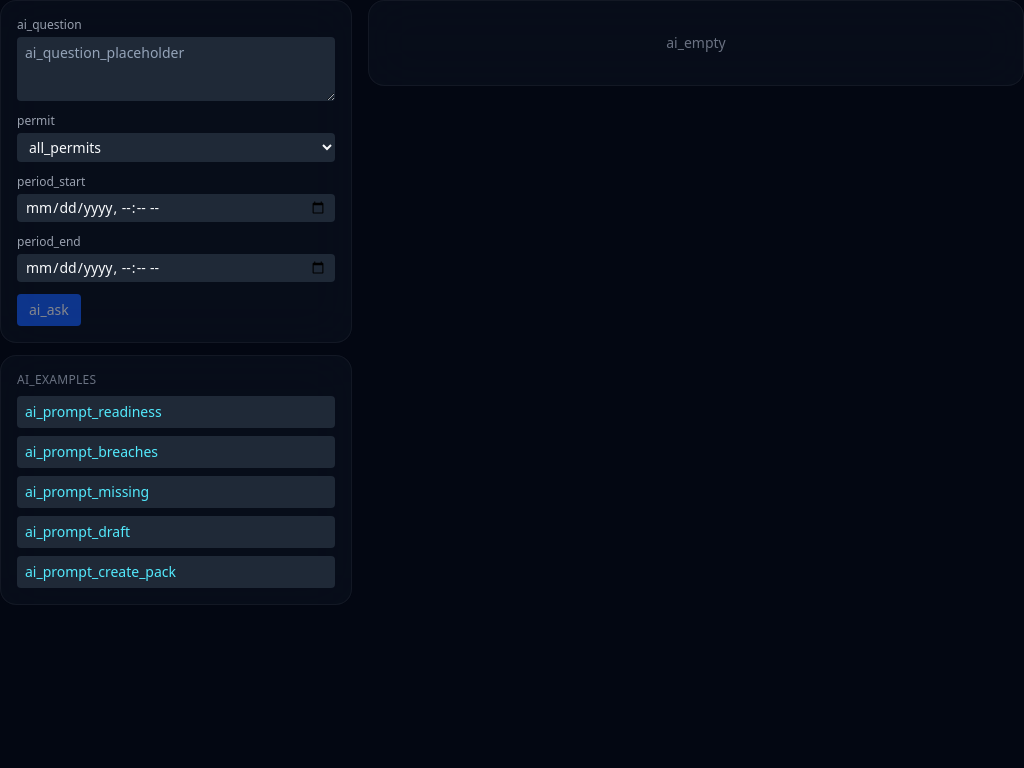
Test: Compliance AssistantTab › renders the answer text and clickable link chips from a mocked response
The width and height of the screenshot is (1024, 768).
Click the button "ai_prompt_readiness" at (93, 412), box [17,396,335,428]
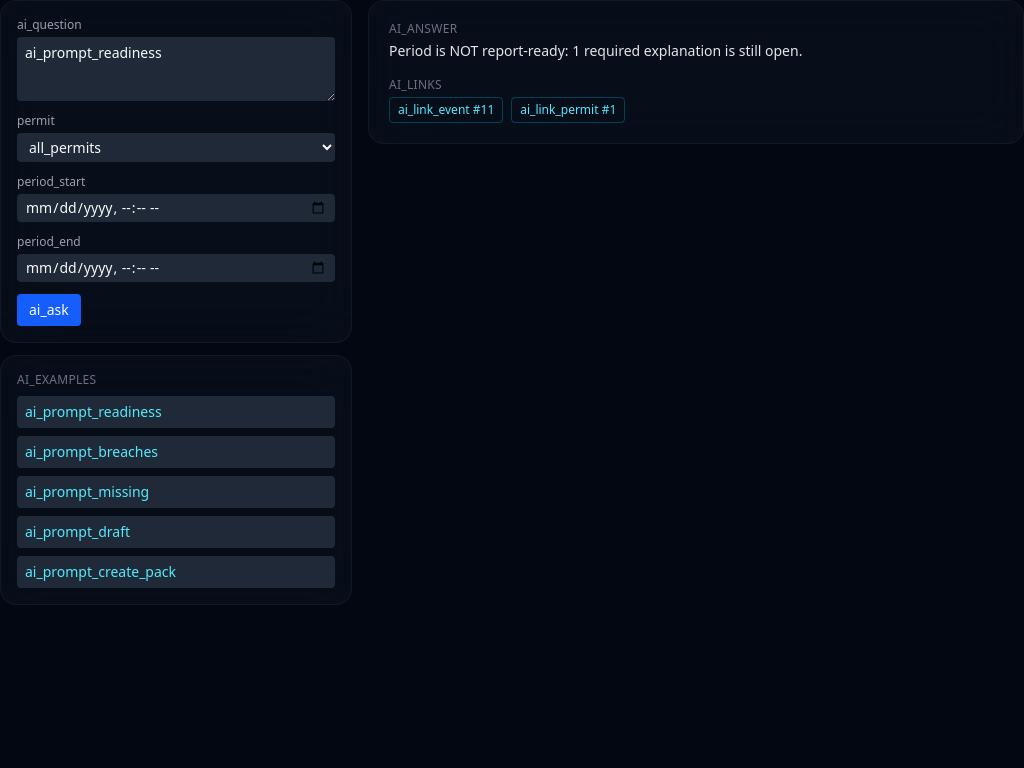
Expected: the text "Period is NOT report-ready: 1 required explanation is still open." is shown, [389,41,802,60]
Expected: the button "ai_link_event #11" is shown, [389,97,503,123]
Expected: the button "ai_link_permit #1" is shown, [511,97,625,123]
